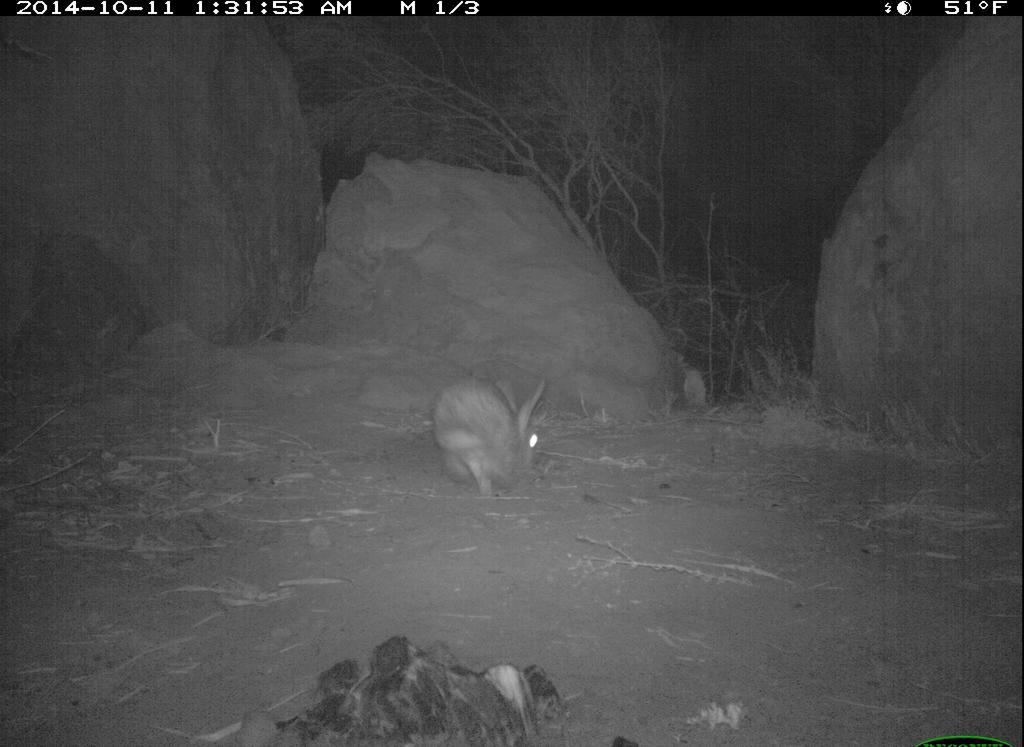rabbit: (432, 356, 560, 510)
